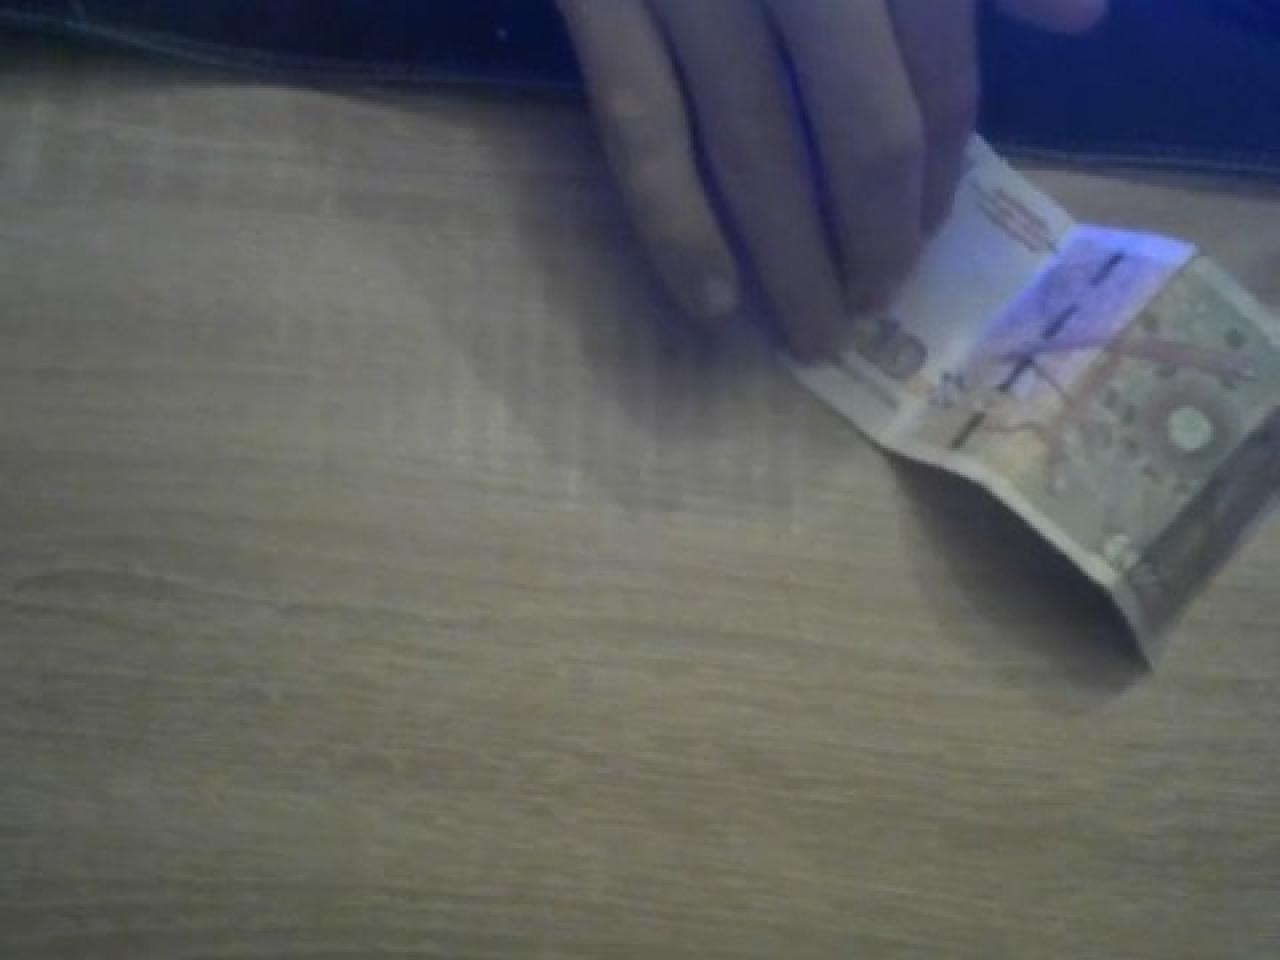10leva: (776, 136, 1280, 670)
